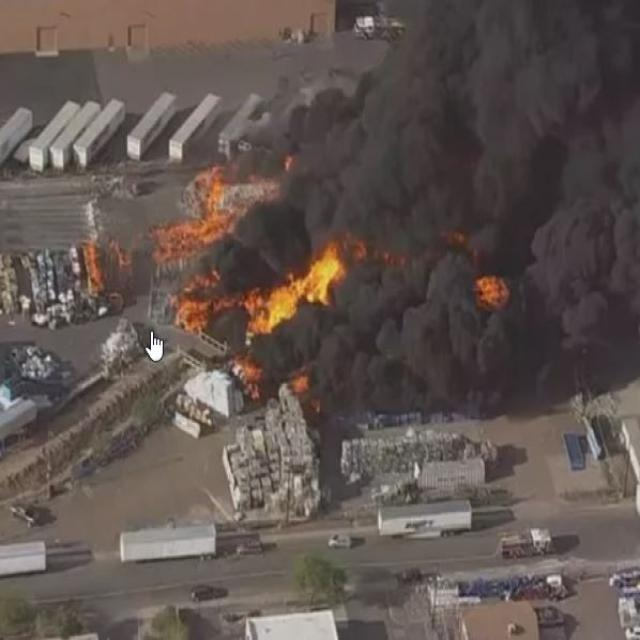Fire: (245, 255, 348, 334), (147, 185, 239, 273), (76, 242, 127, 300), (178, 287, 229, 339), (471, 269, 516, 311), (233, 353, 267, 393), (285, 374, 310, 398)
Smoke: (257, 12, 634, 445)
